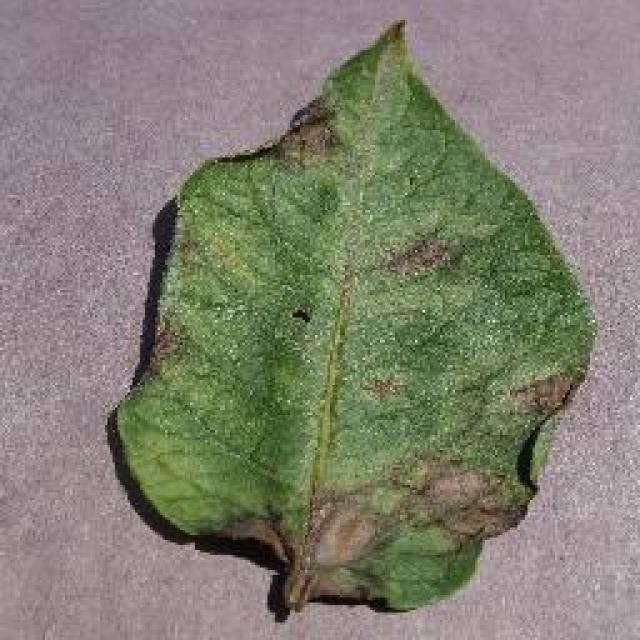late_blight: (105, 15, 600, 617)
